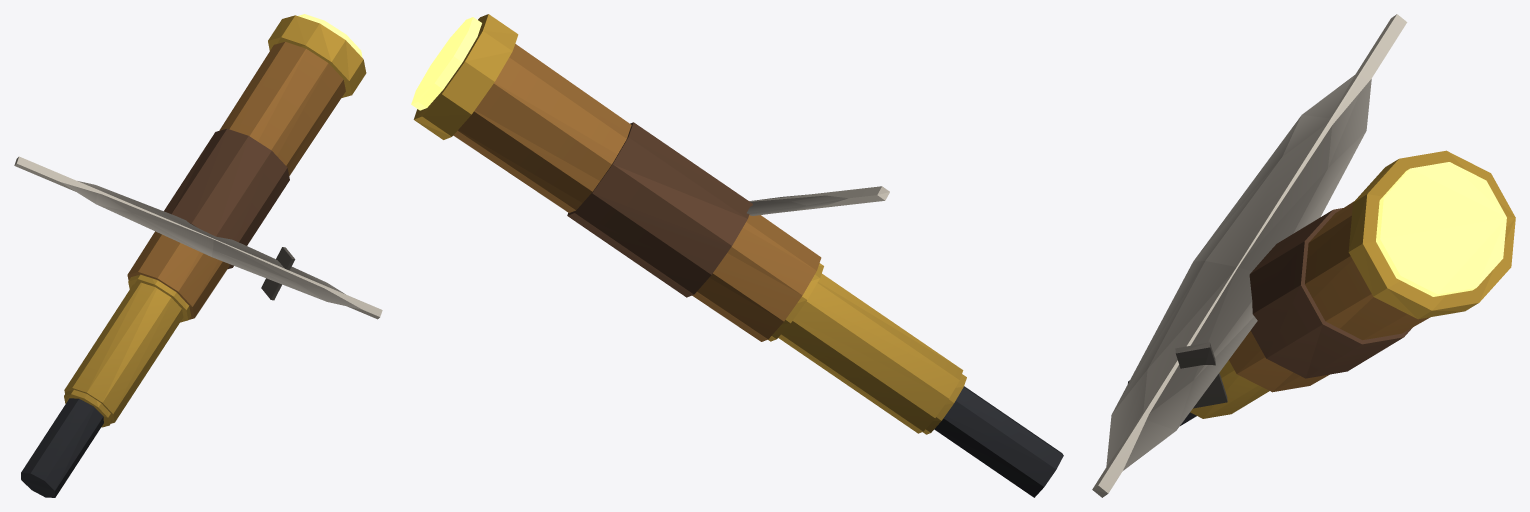
File: spyglass.glb
3 renders of one model, left to right at view 1: azimuth 30°, elevation 25°; view 2: azimuth 150°, elevation 25°; view 3: azimuth 270°, elevation 25°, orthographic. The views are drawn at different scales.
Parts seen in each view (by area): view 1: spyglass; view 2: spyglass; view 3: spyglass.
Boxes of the visible parts, <box> form: spyglass: <box>14,14,382,497</box>; spyglass: <box>411,14,1063,497</box>; spyglass: <box>1092,14,1515,497</box>.
Bounding box in the file's own units: 0.6634 × 0.5198 × 0.3597.
